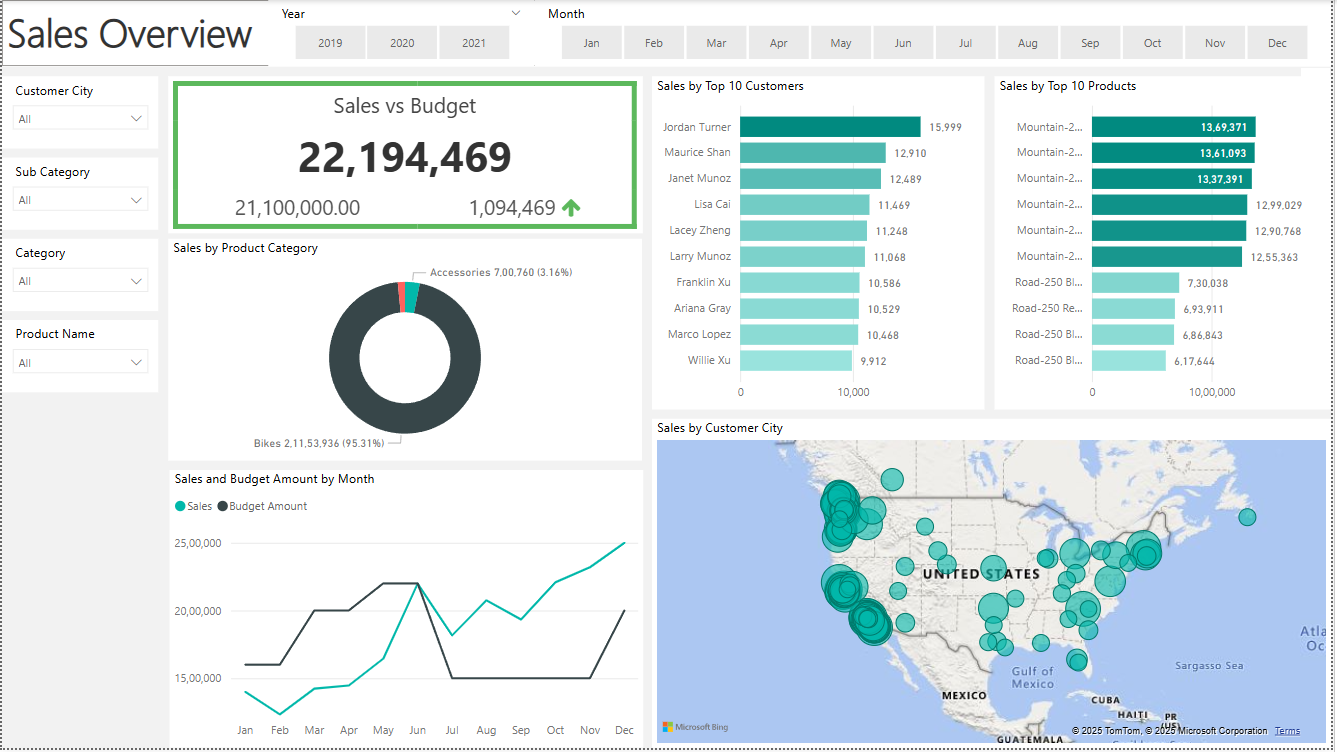

What the dashboard file says about the page in this screenshot:
{"tool":"powerbi","page":{"name":"Sales Overview","canvas":[1280,720],"ordinal":0},"visuals":[{"type":"textbox","box":[0,0,1280,64],"z":0},{"type":"slicer","fields":{"Values":["DIM_Calendar.Year"]},"box":[256,0,256,64],"z":1000},{"type":"slicer","fields":{"Values":["DIM_Calendar.MonthShort"]},"box":[512,0,768,64],"z":2000},{"type":"slicer","fields":{"Values":["DIM_Customers.Customer City"]},"box":[0,73,150.5,69.3],"z":3000},{"type":"slicer","fields":{"Values":["DIM_Products.Product Category"]},"box":[0,229.9,150.5,69.3],"z":4000},{"type":"slicer","fields":{"Values":["DIM_Products.Product Name"]},"box":[0,308.4,150.5,69.3],"z":5000},{"type":"slicer","fields":{"Values":["DIM_Products.Sub Category"]},"box":[0,151.4,150.5,69.3],"z":6000},{"type":"barChart","title":"Sales by Top 10 Products","fields":{"Category":["DIM_Products.Product Name"],"Y":["Analysis Metrics.Sales"]},"box":[955.2,73,324.8,321.1],"z":7000},{"type":"lineChart","fields":{"Category":["DIM_Calendar.MonthShort"],"Y":["Analysis Metrics.Sales","Analysis Metrics.Budget"]},"box":[160.7,452.8,456.3,267.2],"z":8000},{"type":"barChart","title":"Sales by Top 10 Customers","fields":{"Category":["DIM_Customers.Full Name"],"Y":["Analysis Metrics.Sales"]},"box":[625.9,73,320.2,321.1],"z":9000},{"type":"donutChart","fields":{"Y":["Analysis Metrics.Sales"],"Series":["DIM_Products.Product Category"]},"box":[160.6,229.9,456.2,213.5],"z":10000},{"type":"map","fields":{"Category":["DIM_Customers.Customer City"],"Size":["Analysis Metrics.Sales"]},"box":[625.9,403.3,654.1,316.6],"z":12000},{"type":"BBED0A4D4D8D44CE93CF2DAFADEE466C","fields":{"actual":["Analysis Metrics.Sales"],"target2":["Analysis Metrics.Sales / Budget"],"target1":["Analysis Metrics.Budget"]},"box":[160.5,73.4,456.6,151.3],"z":13001}]}

Visuals, with their boxes in screenshot pixels (x1, y1, x2, y2), scaled from the page's 1280x720 canvas onto the 1337x752 screenshot:
textbox: Rect(0, 0, 1336, 67)
slicer - DIM_Calendar.Year: Rect(267, 0, 535, 67)
slicer - DIM_Calendar.MonthShort: Rect(535, 0, 1336, 67)
slicer - DIM_Customers.Customer City: Rect(0, 76, 157, 149)
slicer - DIM_Products.Product Category: Rect(0, 240, 157, 312)
slicer - DIM_Products.Product Name: Rect(0, 322, 157, 394)
slicer - DIM_Products.Sub Category: Rect(0, 158, 157, 231)
"Sales by Top 10 Products" barChart: Rect(998, 76, 1336, 412)
lineChart - DIM_Calendar.MonthShort x Analysis Metrics.Sales: Rect(168, 473, 644, 751)
"Sales by Top 10 Customers" barChart: Rect(654, 76, 988, 412)
donutChart - Analysis Metrics.Sales x DIM_Products.Product Category: Rect(168, 240, 644, 463)
map - DIM_Customers.Customer City x Analysis Metrics.Sales: Rect(654, 421, 1336, 751)
BBED0A4D4D8D44CE93CF2DAFADEE466C - Analysis Metrics.Sales x Analysis Metrics.Sales / Budget: Rect(168, 77, 645, 235)
